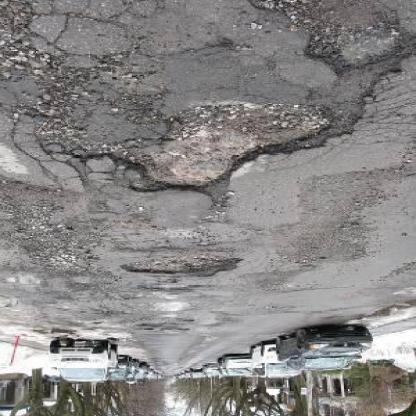pothole: (107, 105, 342, 201), (302, 22, 407, 75), (119, 253, 239, 278)
